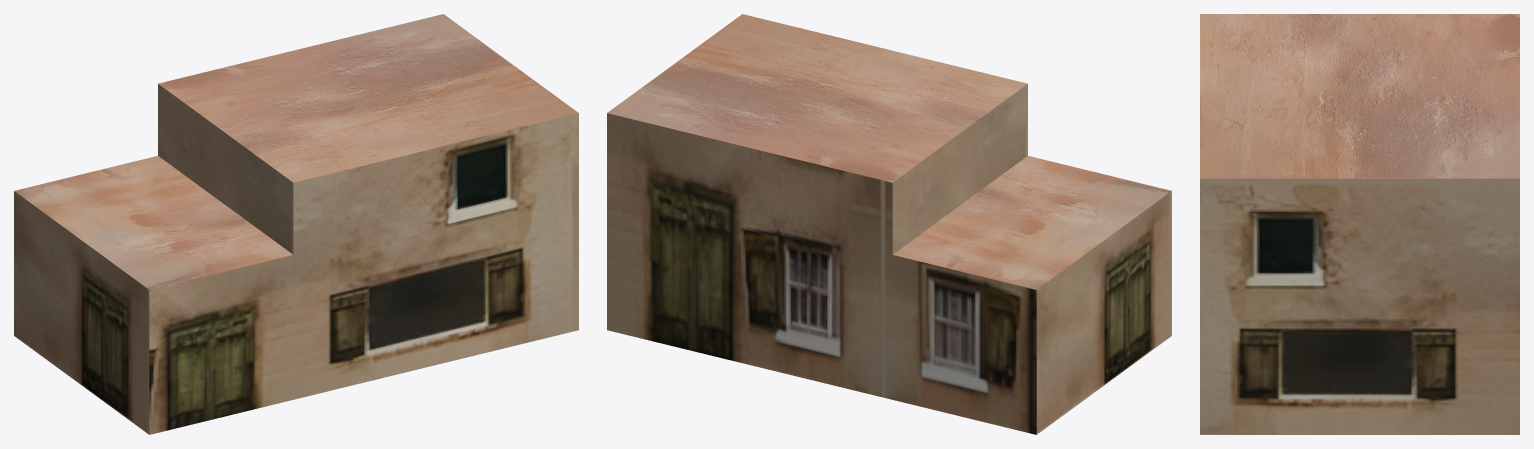
Rendered from deserthouse1.gltf.
3 renders of one model, left to right at view 1: azimuth 30°, elevation 25°; view 2: azimuth 150°, elevation 25°; view 3: azimuth 270°, elevation 25°, orthographic. The views are drawn at different scales.
Parts seen in each view (by area): view 1: deserthouse1_atomic0; view 2: deserthouse1_atomic0; view 3: deserthouse1_atomic0.
Boxes of the visible parts, box(x1,y1,x2,y2) form: deserthouse1_atomic0: box(14, 14, 578, 434); deserthouse1_atomic0: box(607, 14, 1171, 434); deserthouse1_atomic0: box(1200, 14, 1519, 434).
Bounding box in the file's own units: 25.04 × 12.09 × 13.67.
2 materials, 2 textured.
